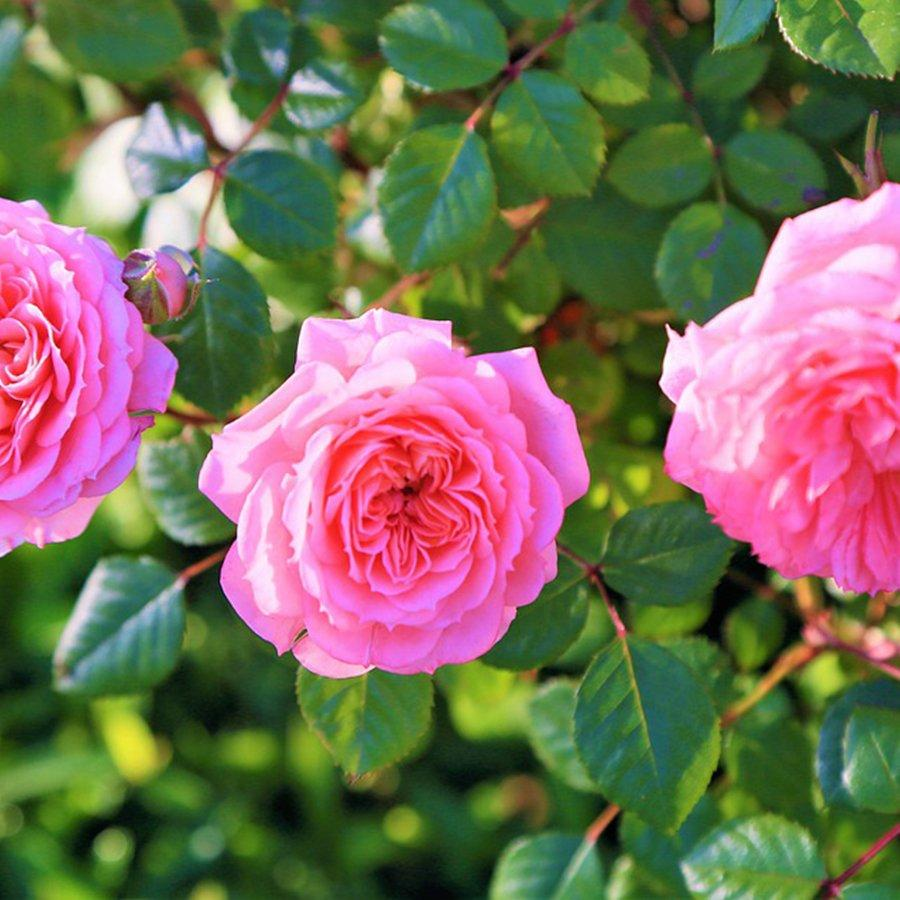Rose: (205, 280, 588, 693), (649, 136, 897, 640), (0, 164, 179, 578)
